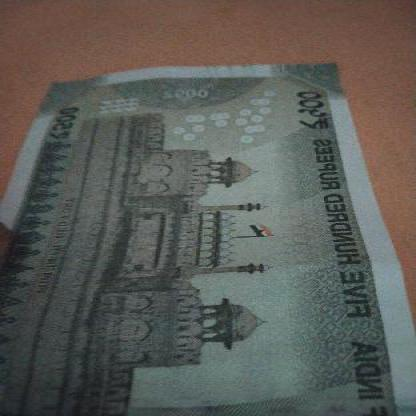New500Back: (0, 59, 411, 415)
